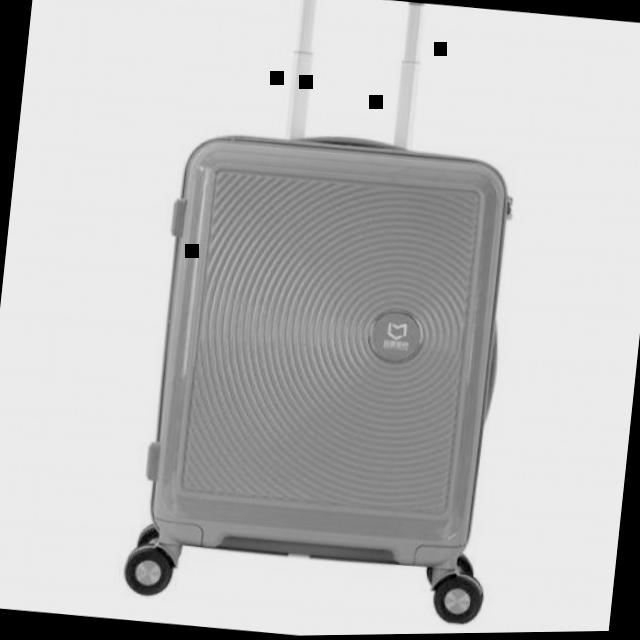luggage: (130, 111, 528, 590)
